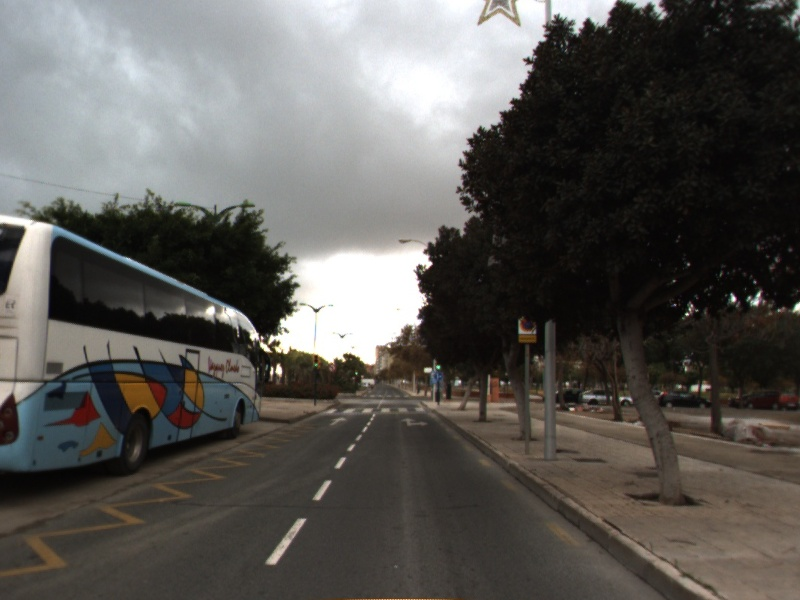STRAIGHT: (326, 415, 350, 427)
STRAIGHT_RIGHT: (399, 416, 431, 428)
